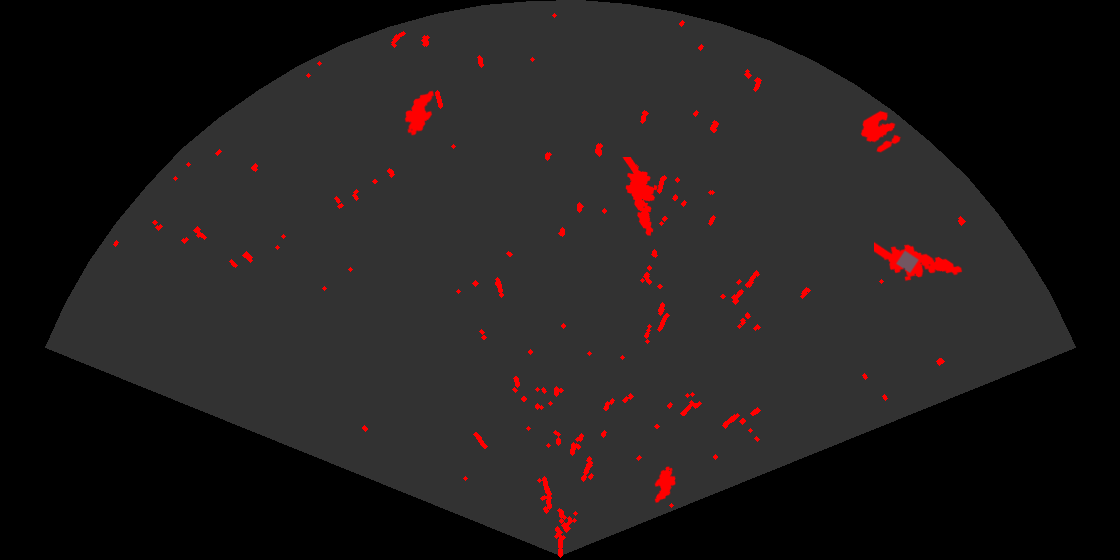AUV: (403, 89, 436, 137), (653, 465, 678, 504)
ball: (859, 109, 903, 154)
frogman: (874, 240, 964, 283), (621, 157, 659, 237)
